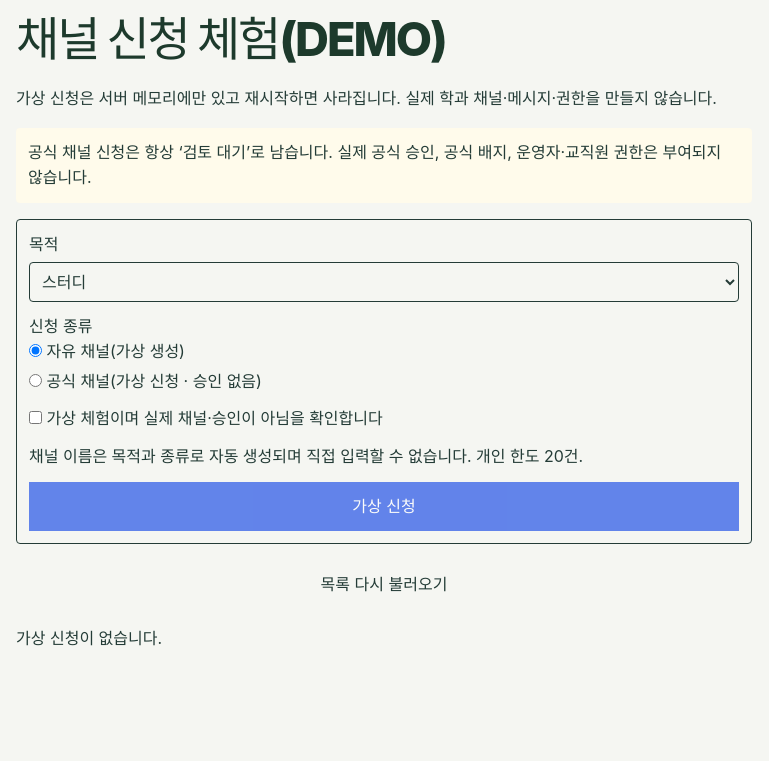
Test: 가상 채널 신청 › 동의 없이는 신청할 수 없고 고정 필드만 보낸다
Check: the text "가상 신청이 없습니다." is shown, box [16,628,162,648]
Check: the button "가상 신청" is disabled, box [29,482,739,531]
What coordinates should you click on to do the following:
click the radio button labelled "공식 채널(가상 신청 · 승인 없음)"
I would click on:
 (36, 380)
Its box is [29,374,42,387].
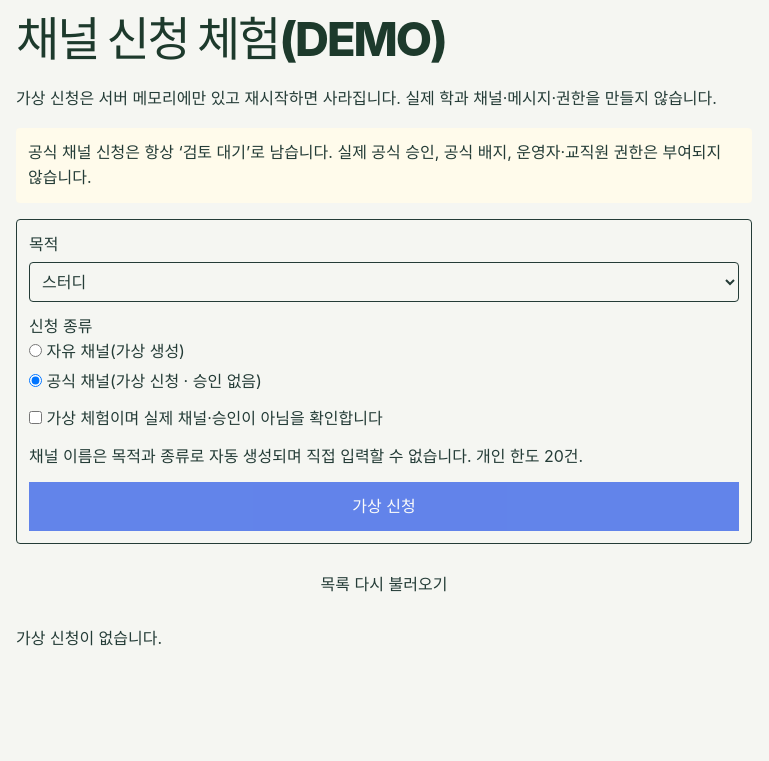
What coordinates should you click on to do the following:
click the checkbox labelled "가상 체험이며 실제 채널·승인이 아님을 확인합니다"
I would click on:
 (36, 418)
Its box is [29,411,42,424].
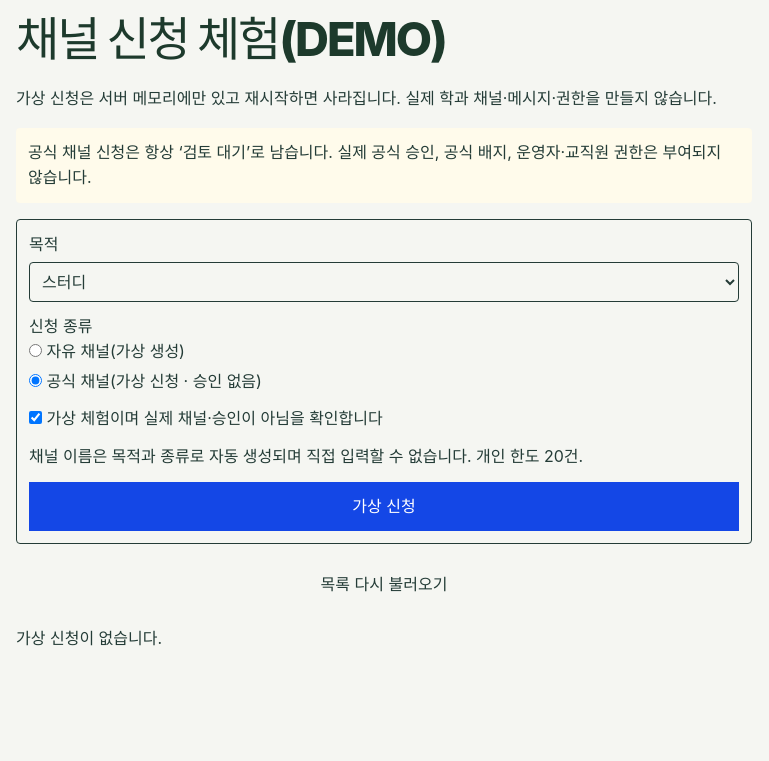
What coordinates should you click on to do the following:
click the button "가상 신청"
I would click on:
 (384, 506)
Its box is [29,482,739,531].
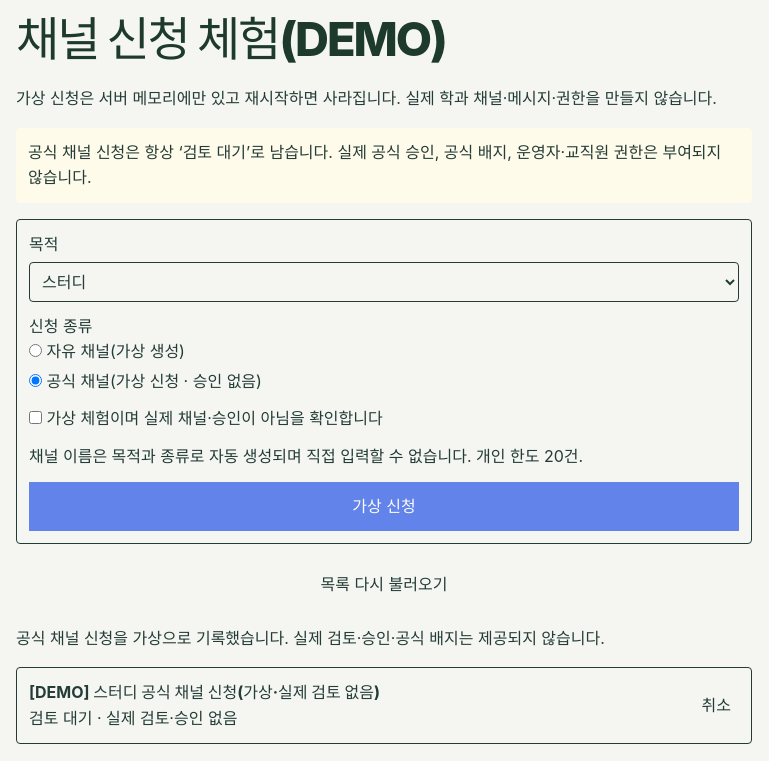
Check: the text "공식 채널 신청을 가상으로 기록했습니다. 실제 검토·승인·공식 배지는 제공되지 않습니다." is shown, box [16,628,605,648]
Check: the text "[DEMO] 스터디 공식 채널 신청(가상·실제 검토 없음)검토 대기 · 실제 검토·승인 없음" is shown, box [29,680,380,732]
